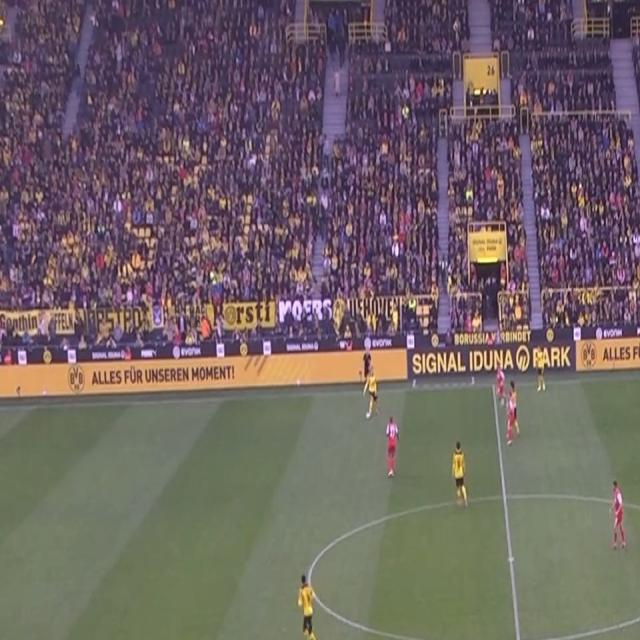ball: (366, 410, 370, 421)
